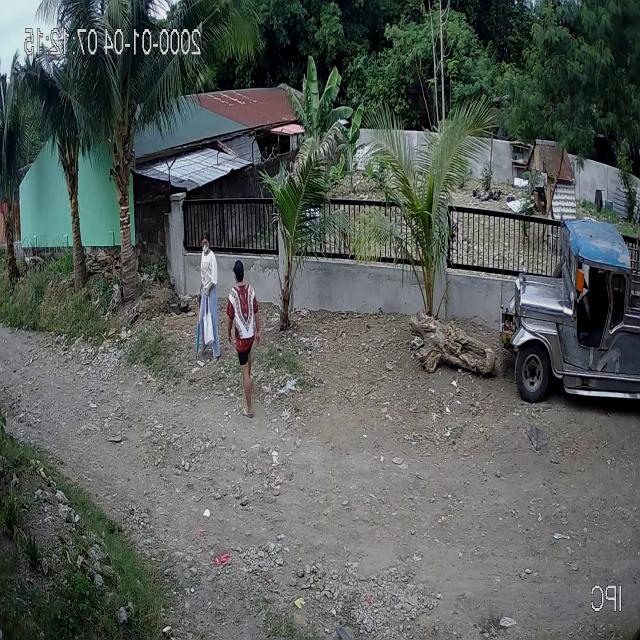walking: (225, 256, 264, 422), (191, 229, 224, 366)
